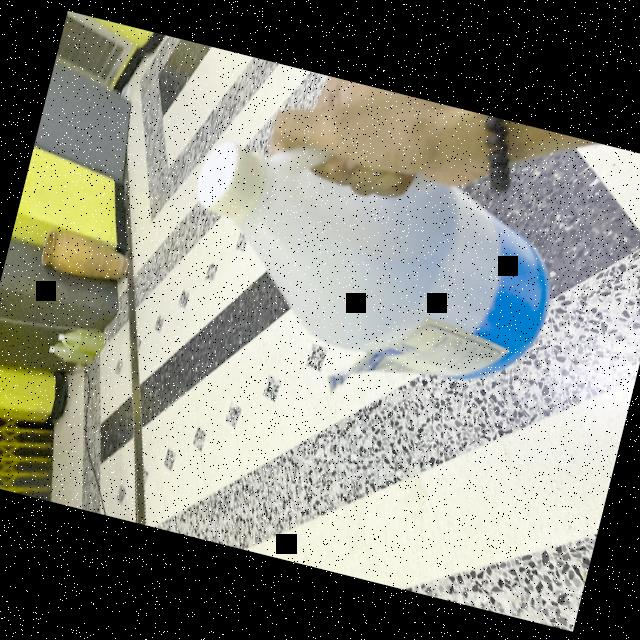chemical_plastic_gallon: (155, 118, 572, 406)
